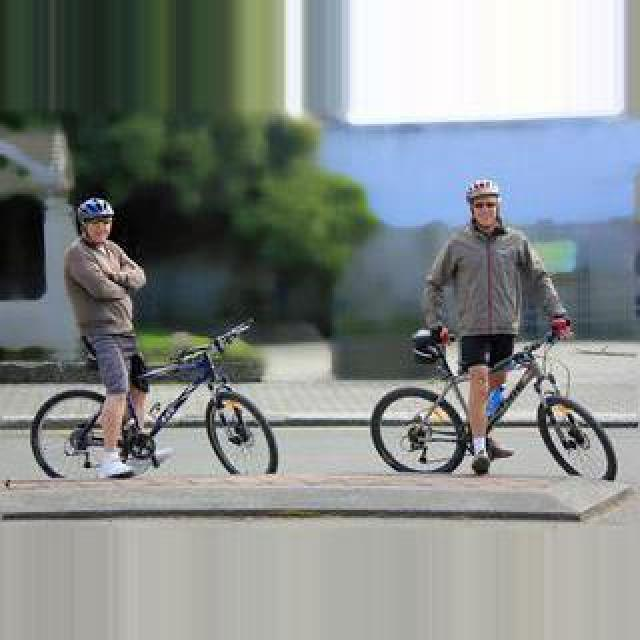MC-Bike: (422, 174, 570, 478), (62, 194, 150, 476)
Person: (369, 318, 621, 482), (25, 317, 271, 479)
